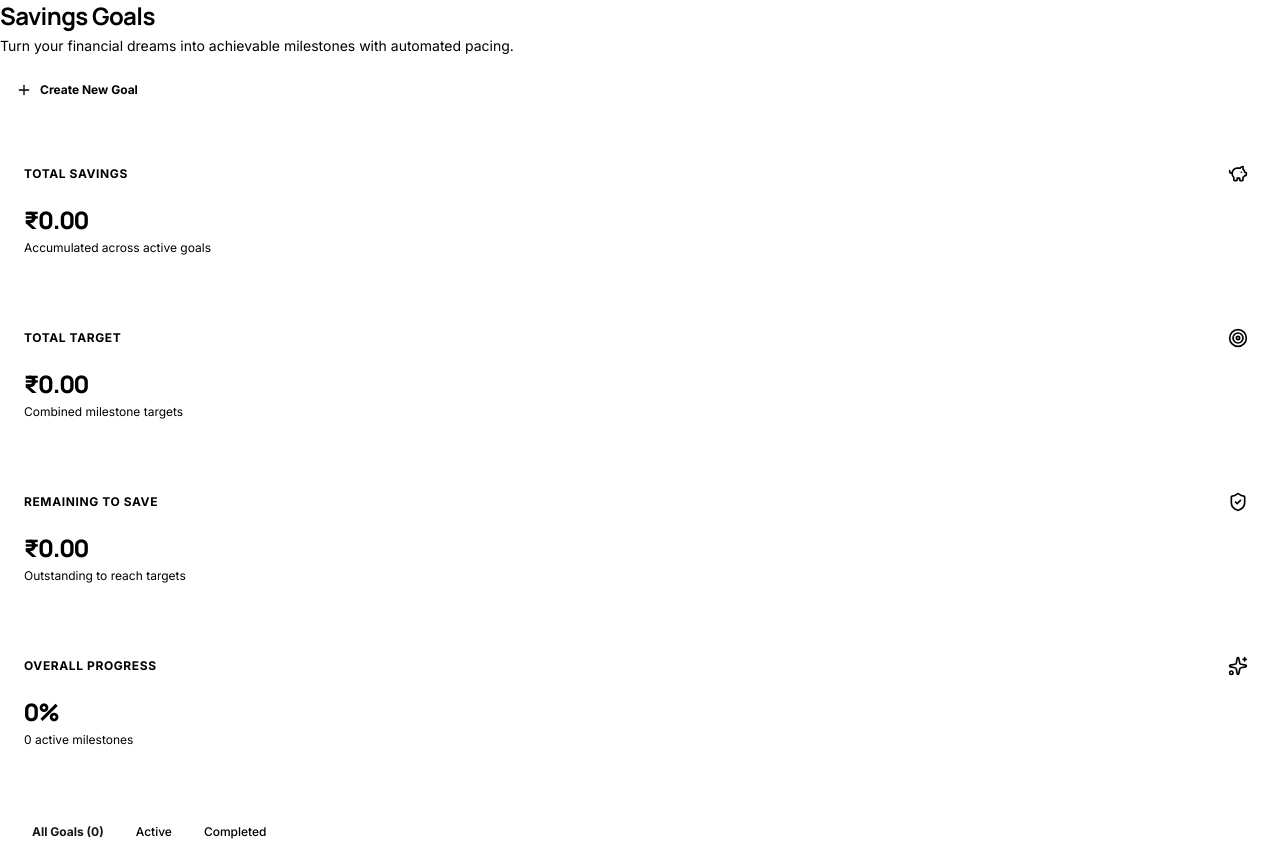
Test case: SPENDX Savings Page & Goals Telemetry › opens Create Savings Goal dialog when Create New Goal is clicked
Click the button "Create New Goal".
click(77, 90)  # box [0,72,154,108]
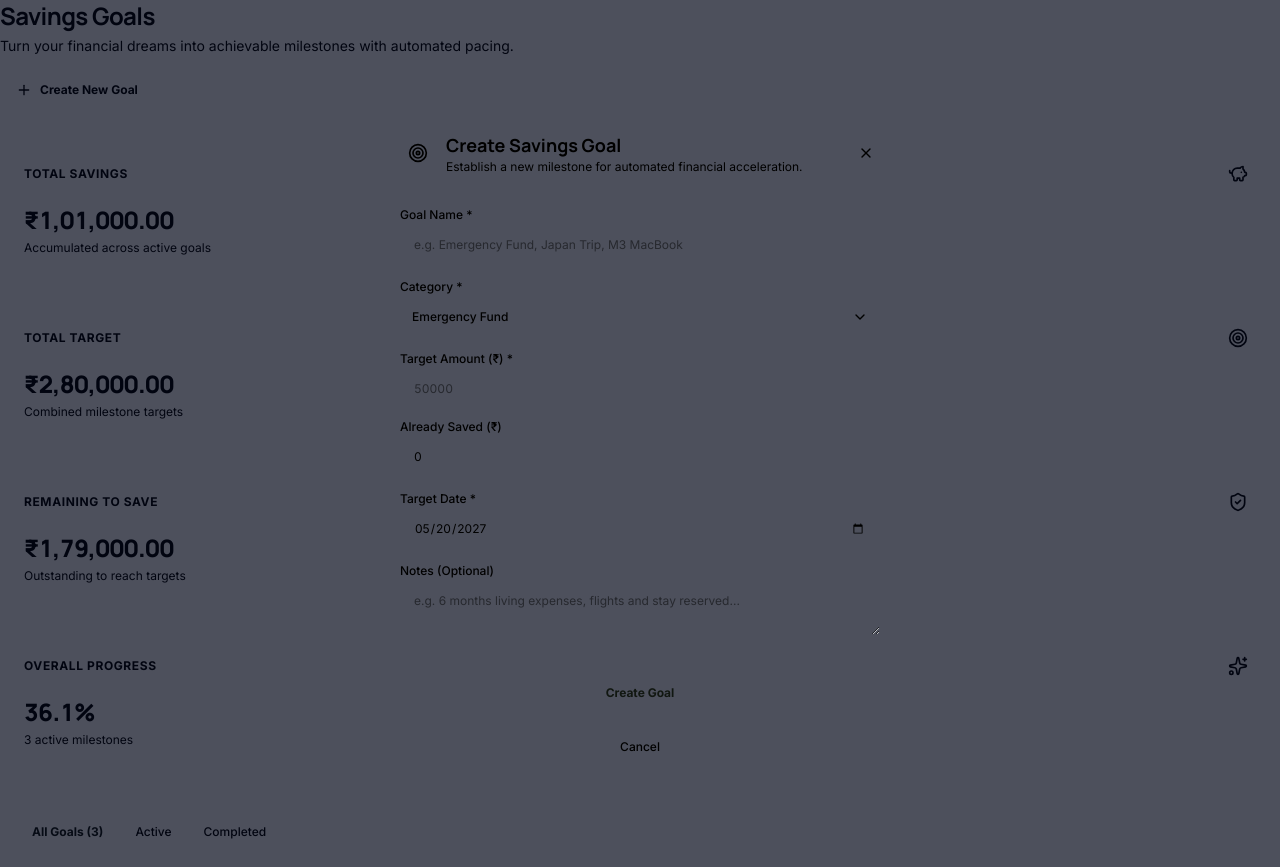
Result: the heading "Create Savings Goal" is shown at [446,133,621,157]
Result: the field labelled "Goal Name *" is shown at [400,227,880,263]
Result: the number field labelled "Target Amount (₹) *" is shown at [400,371,880,407]
